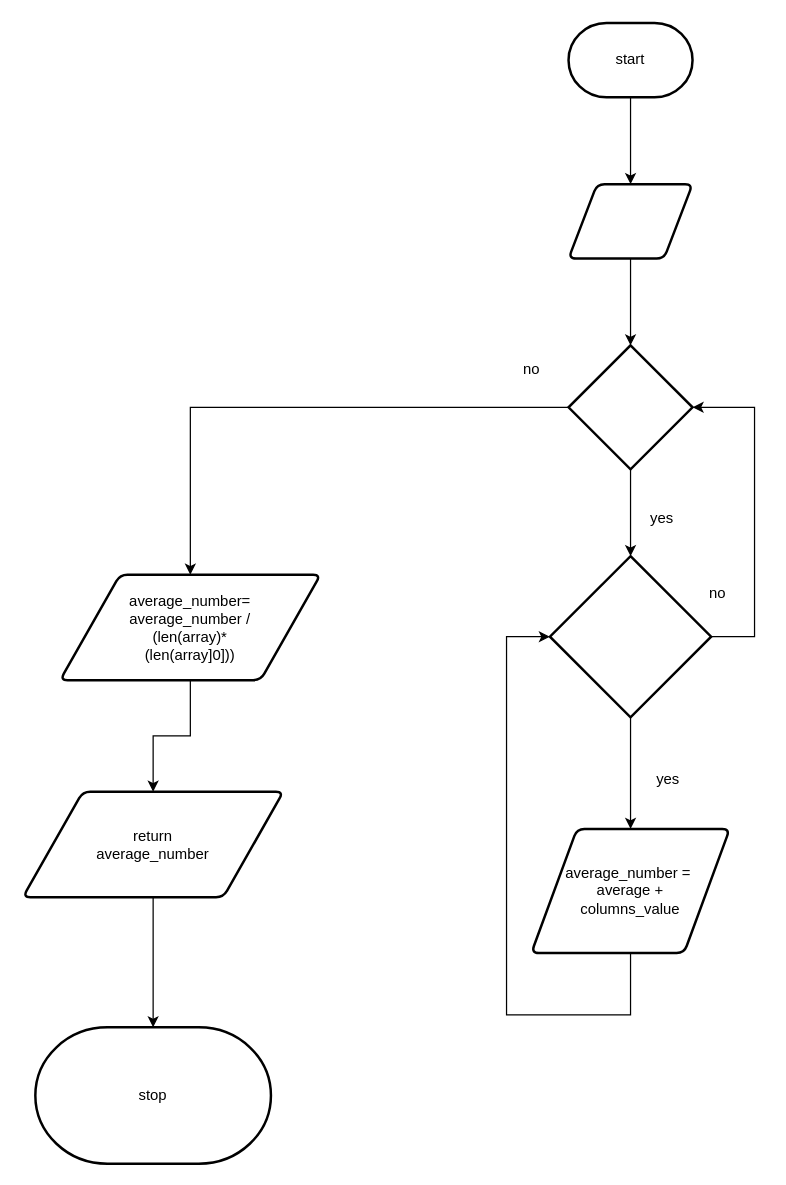
Some shapes in this 786 by 1185 pixel diagram are drawn without their labels. Each missing label, with the box of its shape:
for column_value in row_value: (548, 554, 712, 718)
for row_value in array: (567, 343, 693, 470)
get the array: (567, 182, 693, 259)
